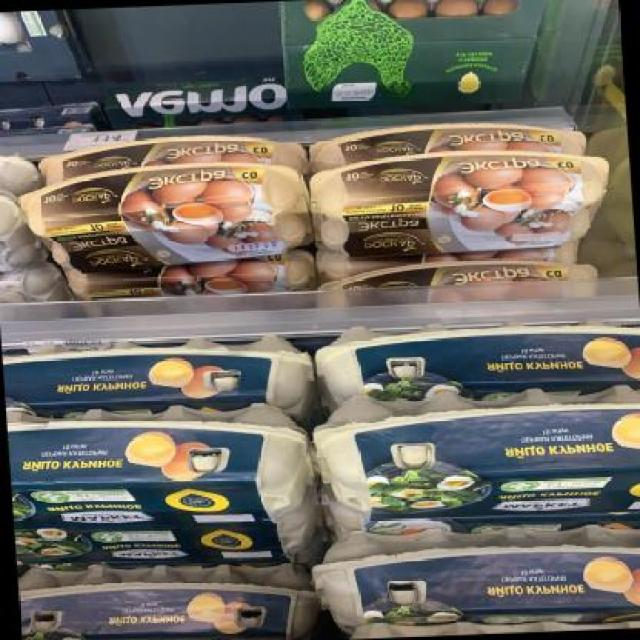Egg: (312, 384, 639, 524), (6, 396, 320, 530), (308, 520, 640, 632), (307, 150, 625, 258), (15, 165, 312, 270), (310, 319, 639, 399), (1, 334, 311, 414), (16, 564, 312, 640), (14, 514, 314, 572)
